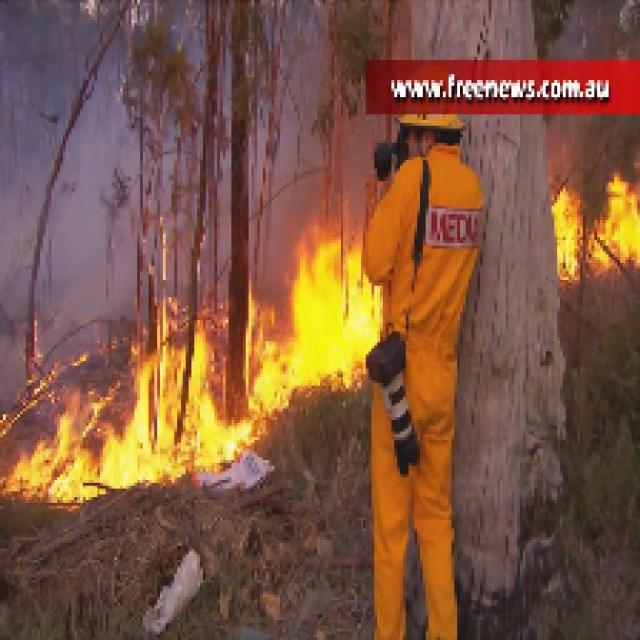Fire: (30, 334, 234, 478), (274, 250, 368, 370), (548, 182, 640, 274)
Smoke: (10, 73, 128, 300)
